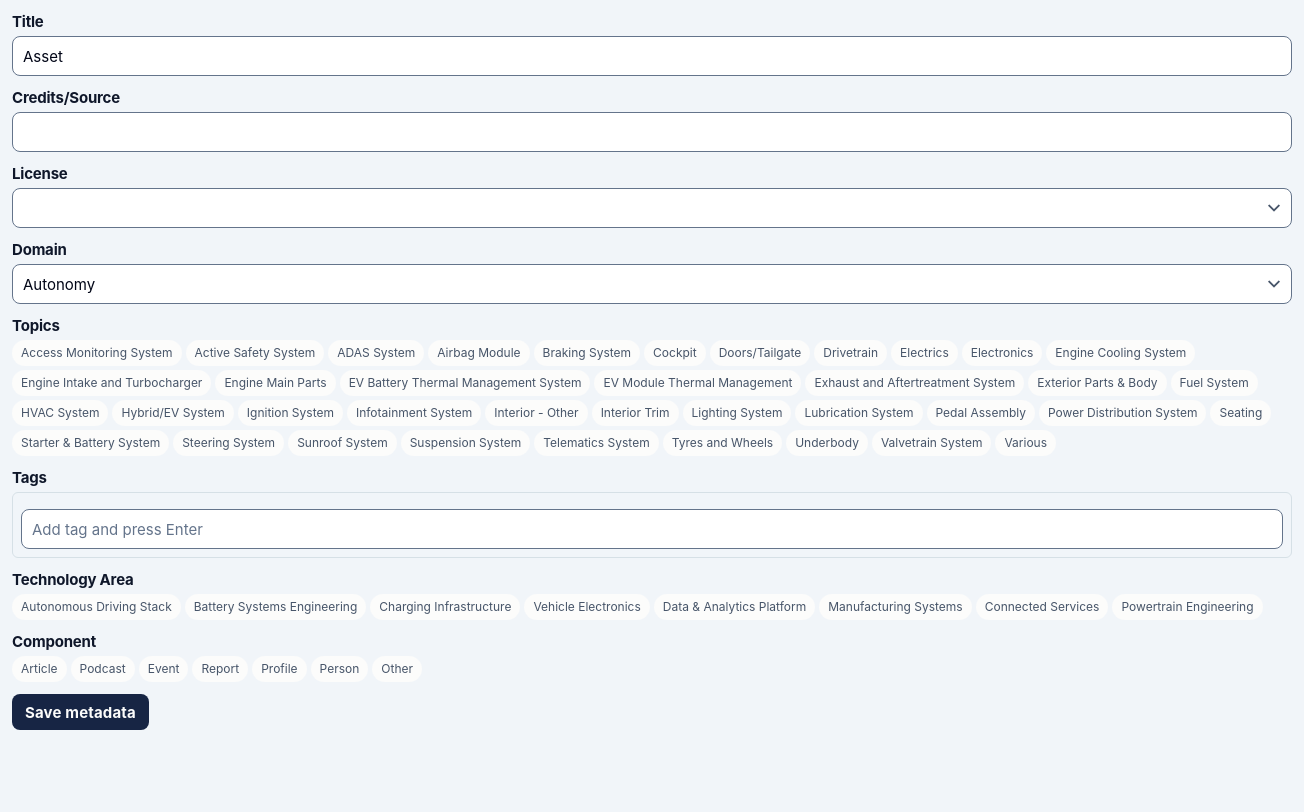
Test: Asset metadata and detail sheet › requires license value
The width and height of the screenshot is (1304, 812).
Click the button "Save metadata".
click(80, 712)  # box [12, 694, 149, 730]
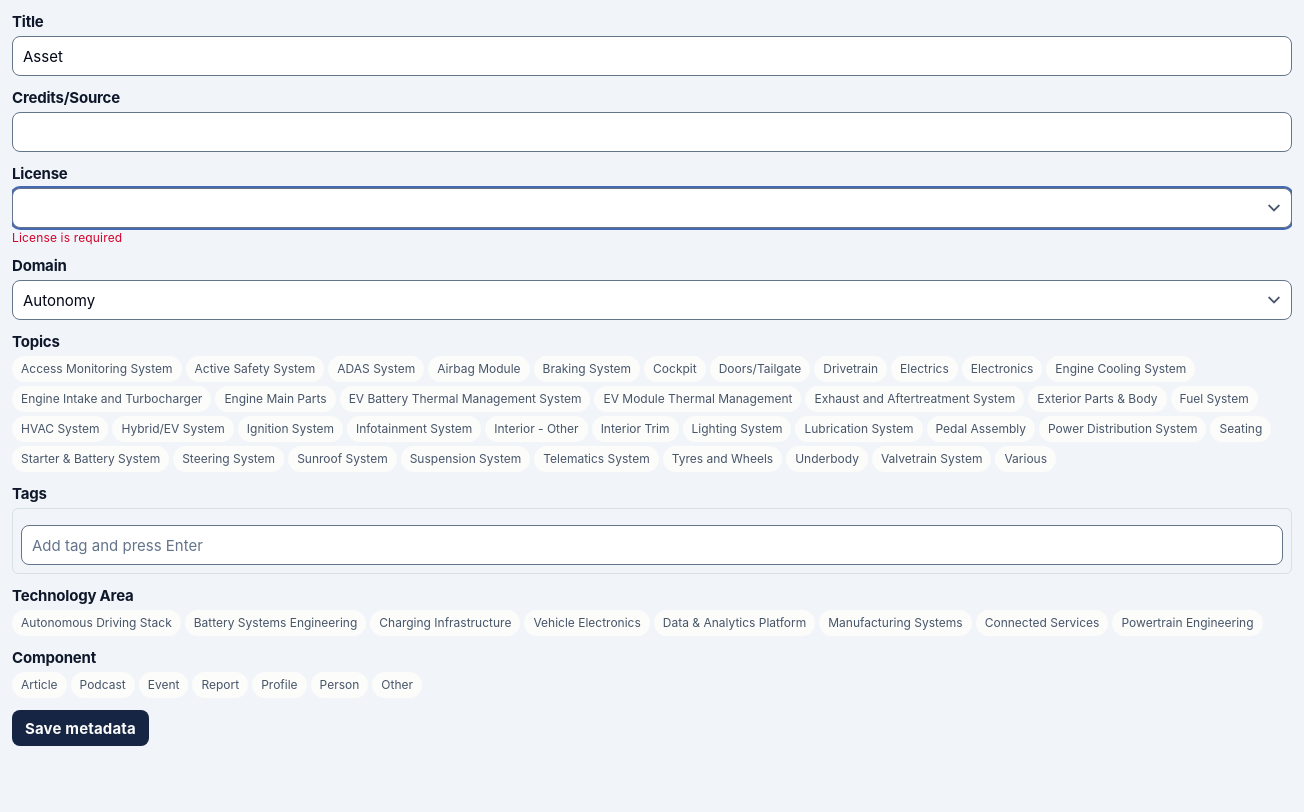
Expected: the text "License is required" is shown, [12, 230, 122, 245]
